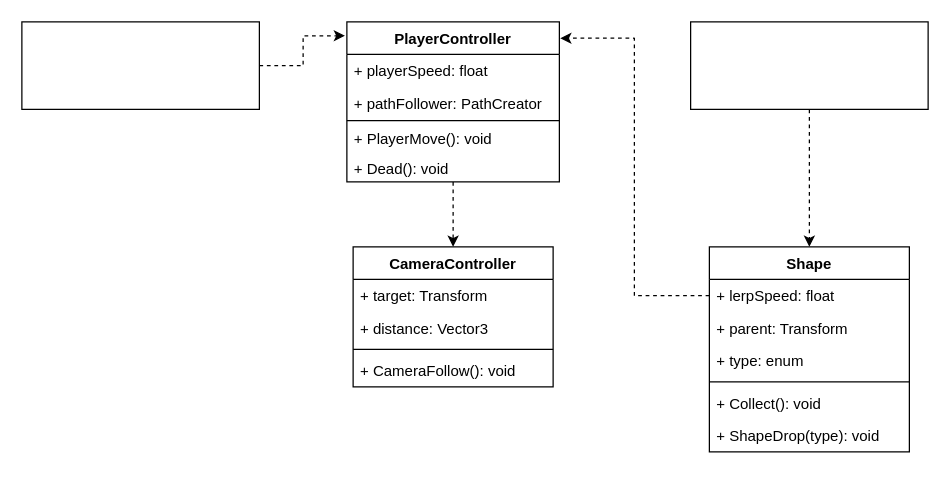
The diagram is 950 pixels wide and 478 high, and some of its shapes have lost their labels. Each missing label, with the centre of its shape:
"<<Interface>> Collectable + Collect(): void" belongs at (x=808, y=65).
"<<Interface>> DeadArea + Dead(): void" belongs at (x=140, y=65).
